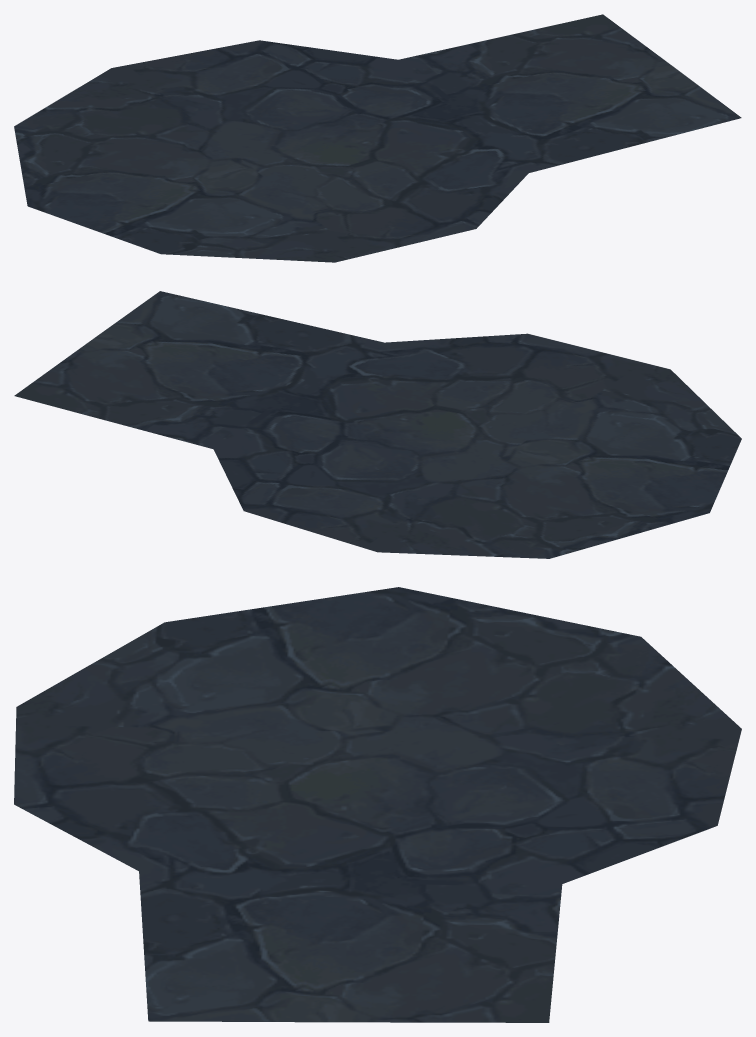
The model's file is yw_ziyuanpingtai_guodao_003.FBX.
3 views of the same model, one above another, from view 1: azimuth 30°, elevation 25°; view 2: azimuth 150°, elevation 25°; view 3: azimuth 270°, elevation 25° (orthographic). The views are drawn at different scales.
Parts seen in each view (by area): view 1: yw_ziyuanpingtai_guodao_003; view 2: yw_ziyuanpingtai_guodao_003; view 3: yw_ziyuanpingtai_guodao_003.
Part boxes in pixels (bbox=[...]): yw_ziyuanpingtai_guodao_003: bbox=[14, 14, 741, 262]; yw_ziyuanpingtai_guodao_003: bbox=[14, 291, 741, 558]; yw_ziyuanpingtai_guodao_003: bbox=[14, 587, 741, 1022].
Bounding box in the file's own units: 1952 × 0.1161 × 1377.
